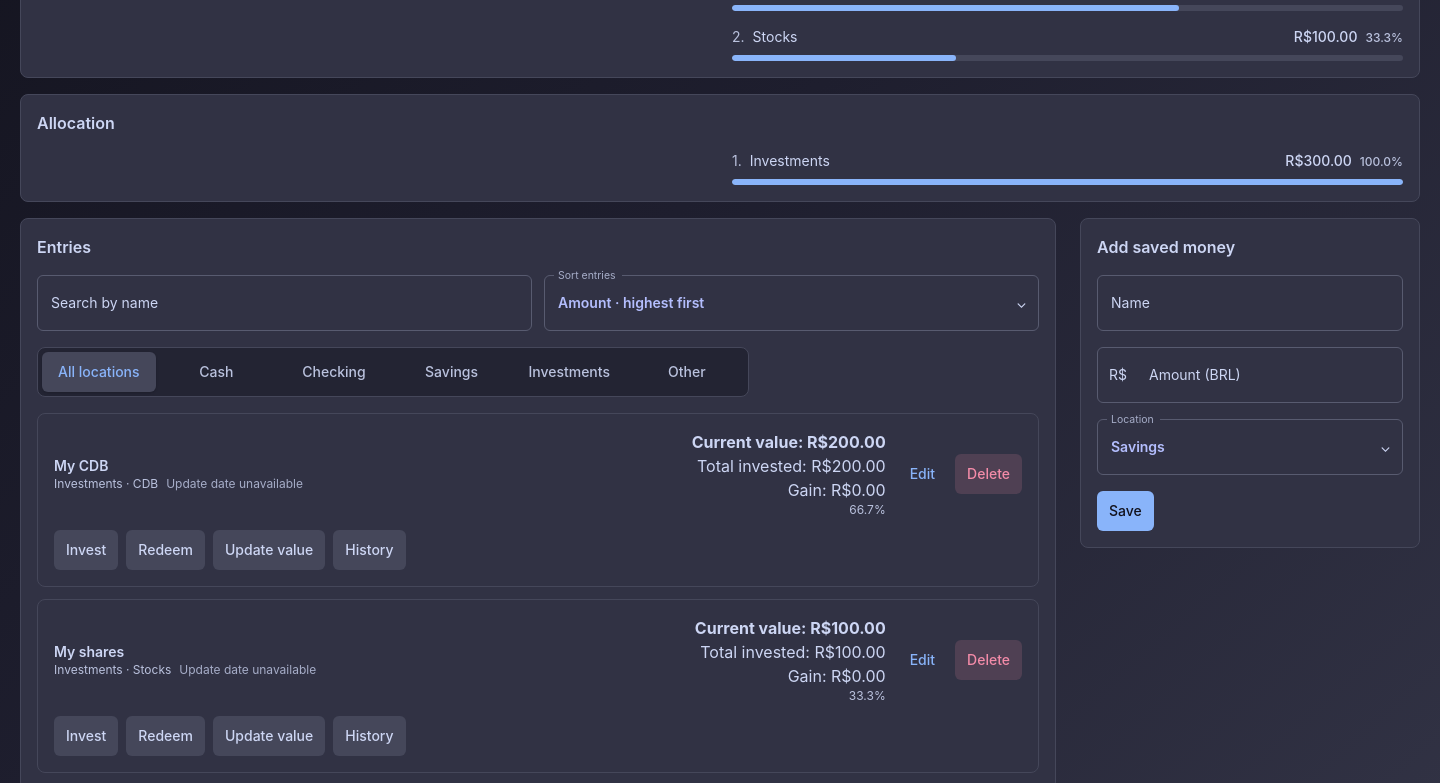
Test case: edits the saved type and filters entries by type, clearing it on location changes
(page scrolled)
Click the button "Edit" in the row of "My shares" at {"x": 922, "y": 660}, box x1=898 y1=640 x2=947 y2=680
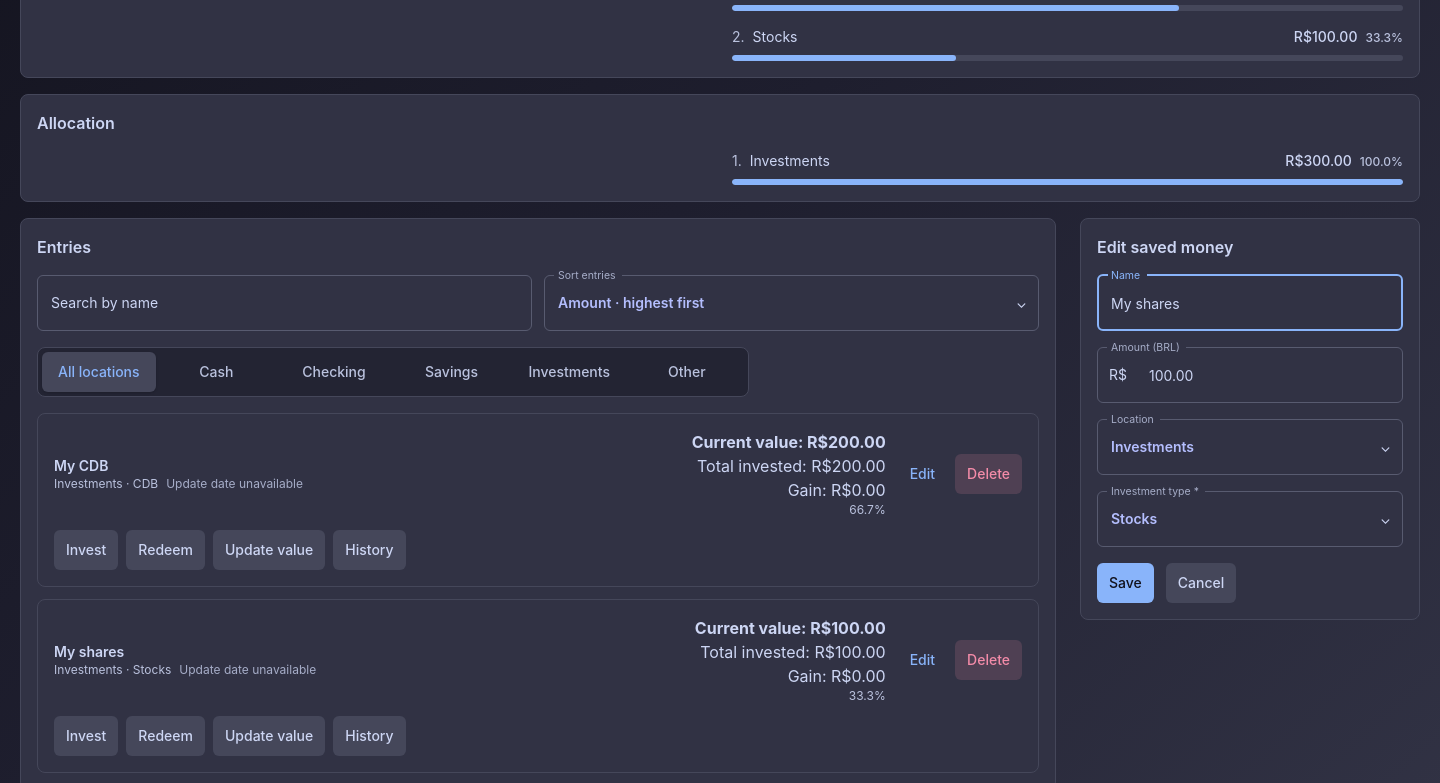
Expected: the dropdown labelled "Investment type" shows "Stocks", x1=1097 y1=491 x2=1403 y2=547
Click the button "Save" at {"x": 1125, "y": 583}, box x1=1097 y1=563 x2=1154 y2=603
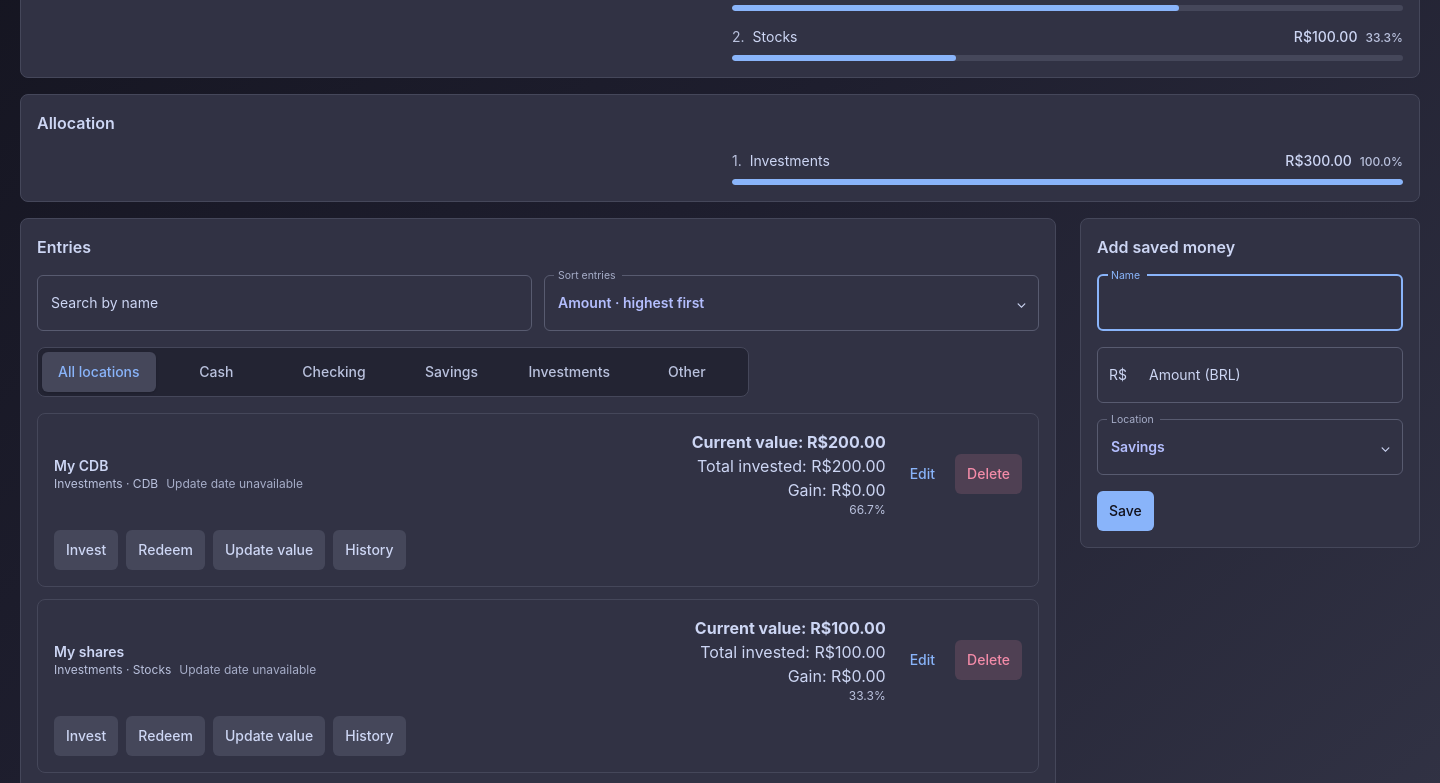
Click the button "Investments" at {"x": 569, "y": 372}, box x1=512 y1=352 x2=626 y2=392
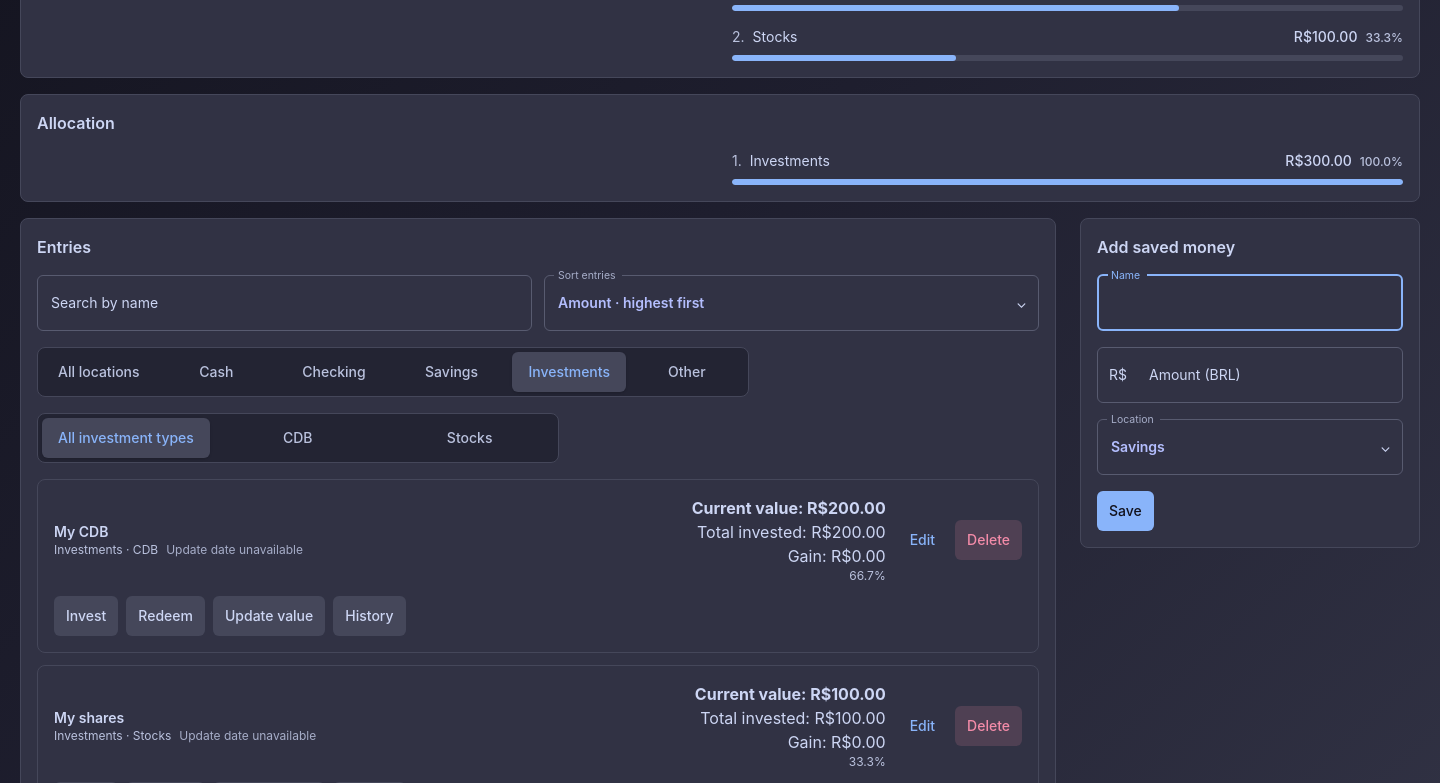
Click the button "Stocks" at {"x": 470, "y": 438}, box x1=386 y1=418 x2=554 y2=458
(page scrolled)
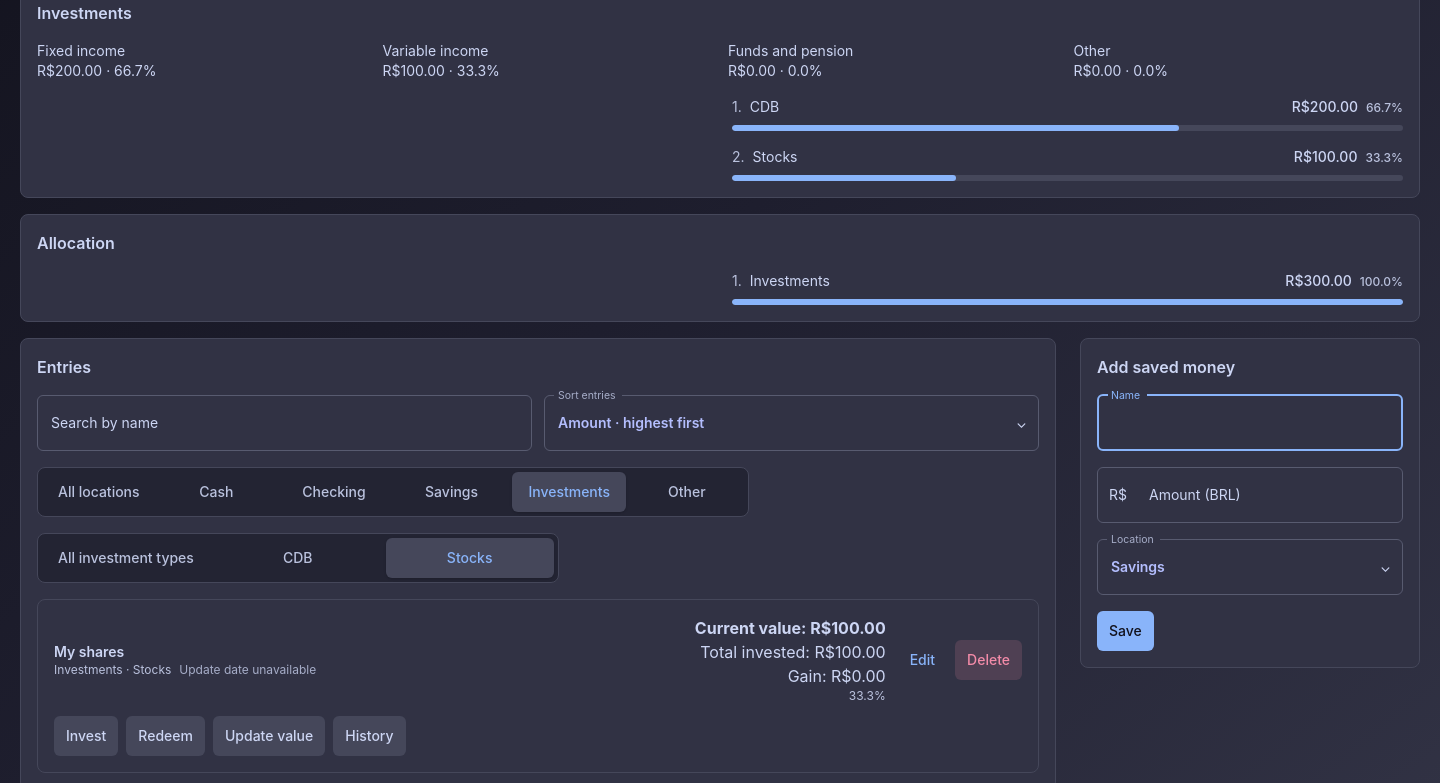
Expected: the heading "My shares" is shown, x1=54 y1=643 x2=124 y2=660
Expected: the heading "My CDB" is gone
Click the button "All locations" at {"x": 99, "y": 492}, box x1=42 y1=472 x2=156 y2=512
(page scrolled)
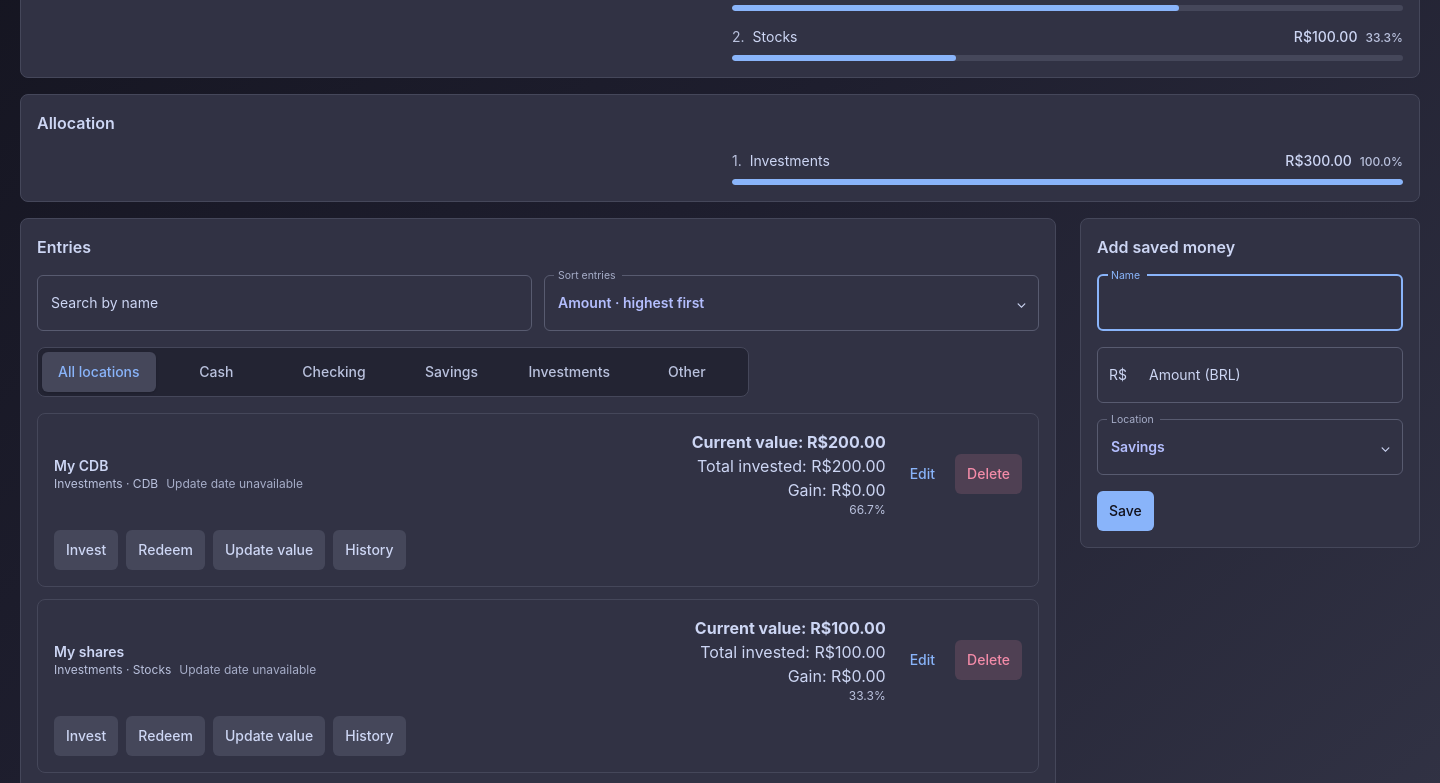
Expected: the button "investment type" is gone
Expected: the heading "My CDB" is shown, x1=54 y1=457 x2=108 y2=474
